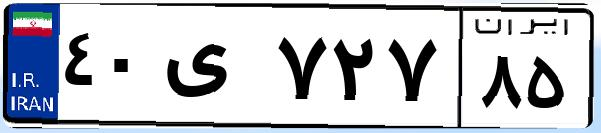0: (110, 28, 158, 98)
2: (330, 28, 385, 110)
4: (57, 26, 110, 100)
5: (525, 38, 570, 115)
7: (270, 28, 330, 110), (385, 28, 445, 110)
8: (475, 38, 525, 113)
ی: (158, 20, 270, 120)
